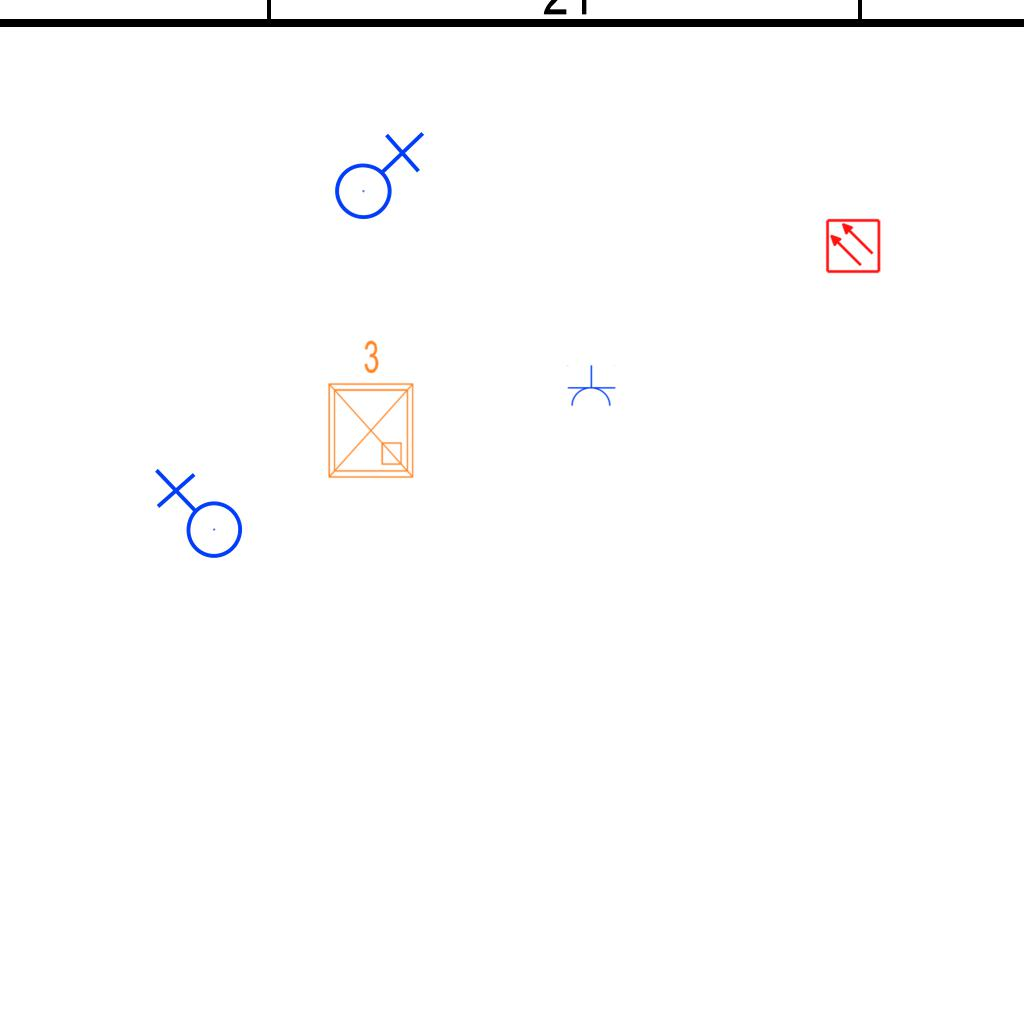Einbaudownlights_LED_Konferenzraeume: (317, 335, 421, 485)
Elektroanschluss_allgemein_230V_Geraeteanschlussdose_230V: (326, 127, 425, 221), (150, 468, 244, 567)
RMO_Rauchmelder_optischer: (825, 218, 881, 274)
Schukosteckdose_einfach: (566, 365, 616, 408)
